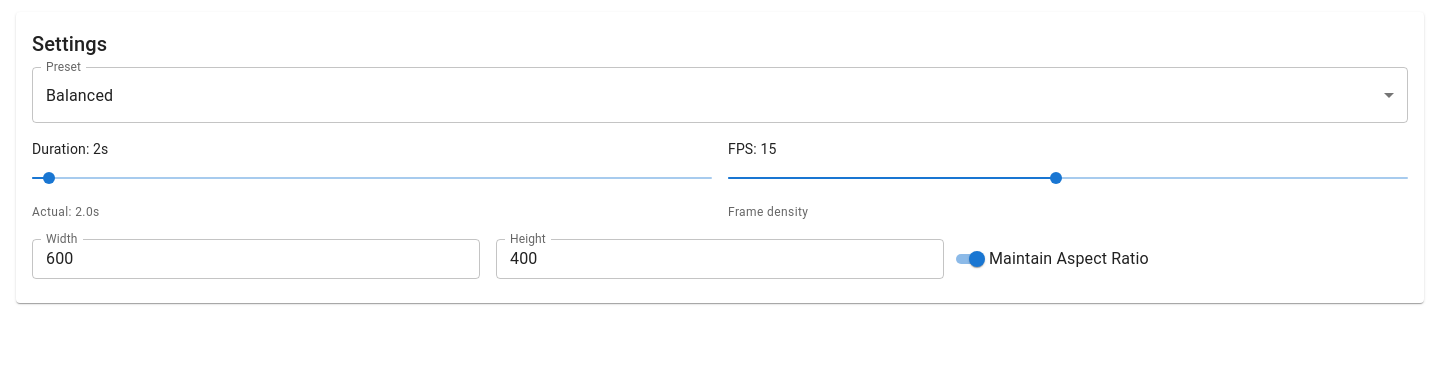
Test case: GifCreatorSettings › should display all preset options
The width and height of the screenshot is (1440, 385).
Click the dropdown: click(80, 95) [46,86,113,104]
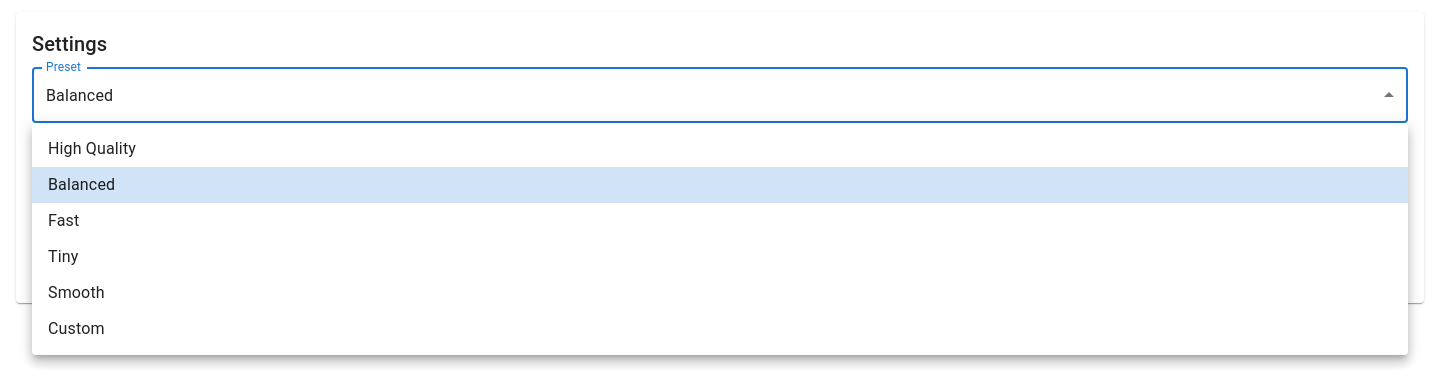
Now the number of options is 6, box [48,139,136,158]; [32,167,1408,203]; [48,211,79,230]; [48,247,78,266]; [48,283,105,302]; [48,319,105,338]
Now the option "High Quality" is shown, box [48,139,136,158]
Now the option "Balanced" is shown, box [32,167,1408,203]
